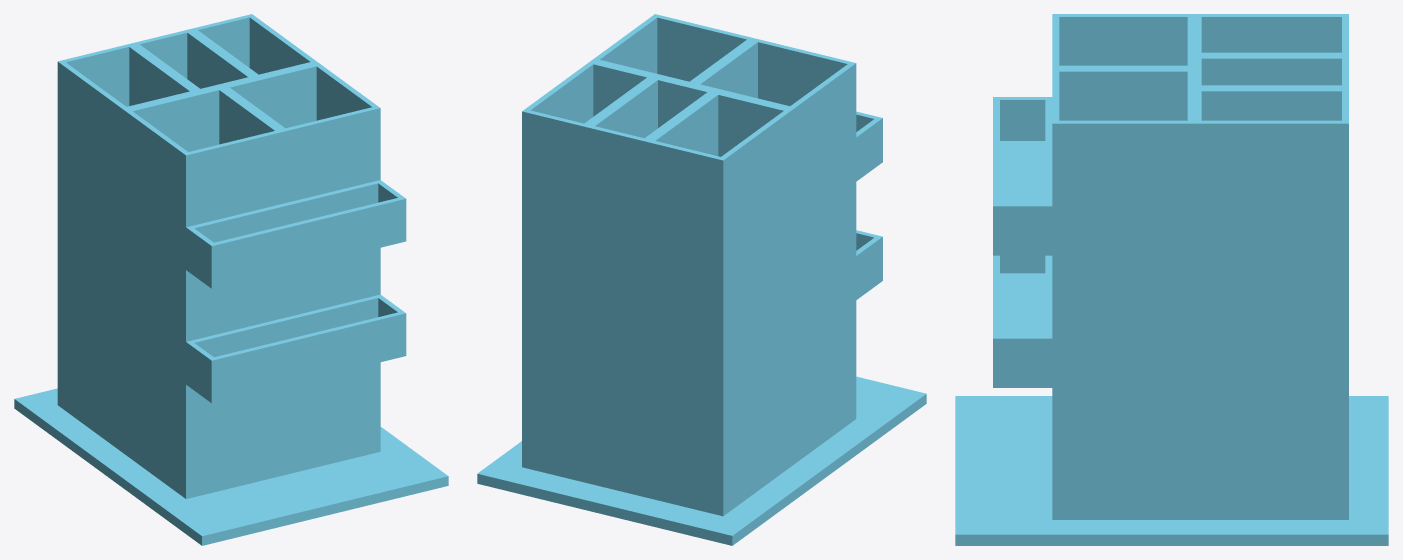
Rendered from property_model.gltf.
3 renders of one model, left to right at view 1: azimuth 30°, elevation 25°; view 2: azimuth 150°, elevation 25°; view 3: azimuth 270°, elevation 25°, orthographic. The views are drawn at different scales.
Parts seen in each view (by area): view 1: JapanProperty3DMesh; view 2: JapanProperty3DMesh; view 3: JapanProperty3DMesh.
Part boxes in pixels (x1,y1,x2,y2): JapanProperty3DMesh: (14,14,448,545); JapanProperty3DMesh: (477,14,926,545); JapanProperty3DMesh: (955,14,1388,545).
Bounding box in the file's own units: 6.64 × 9.1 × 8.76.
